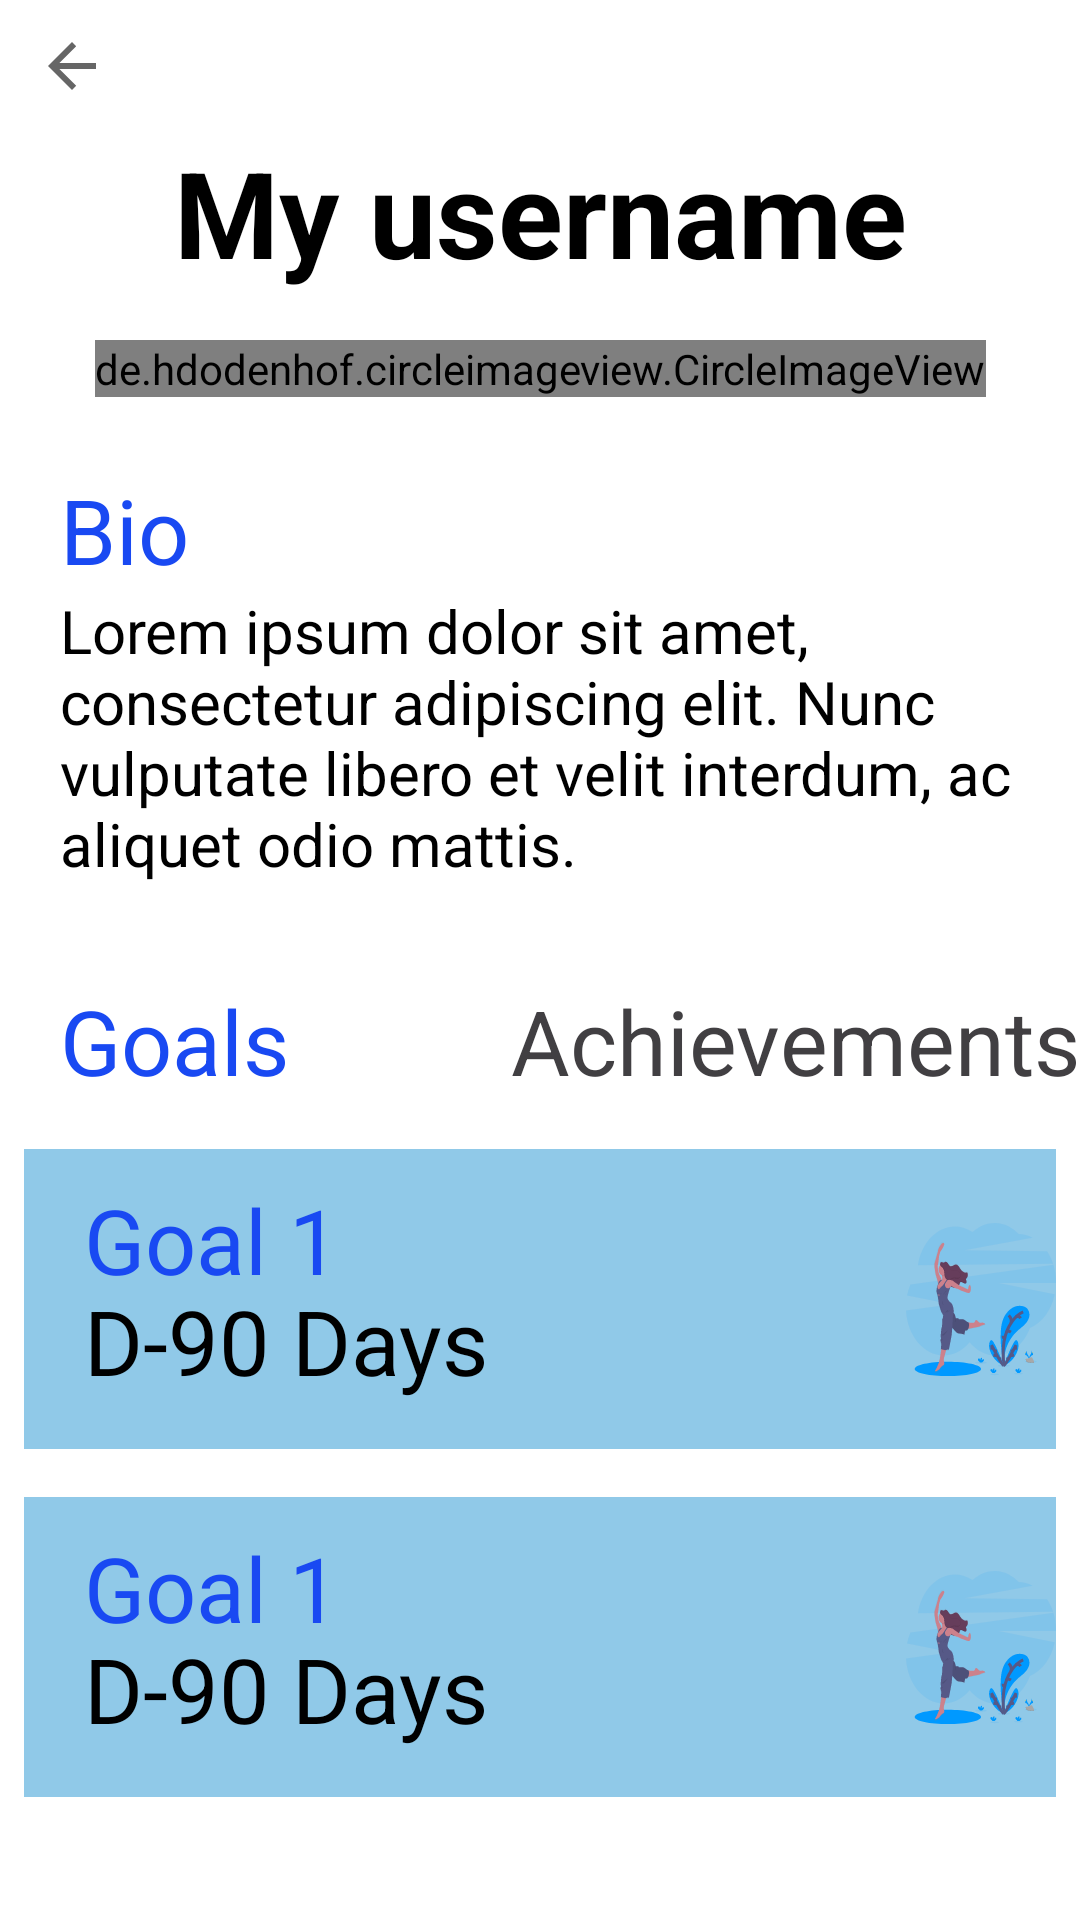

Point at icon controls on the screen. Image size 1080x1920, points as (x=x, y=y).
Back button: (x=72, y=66)
